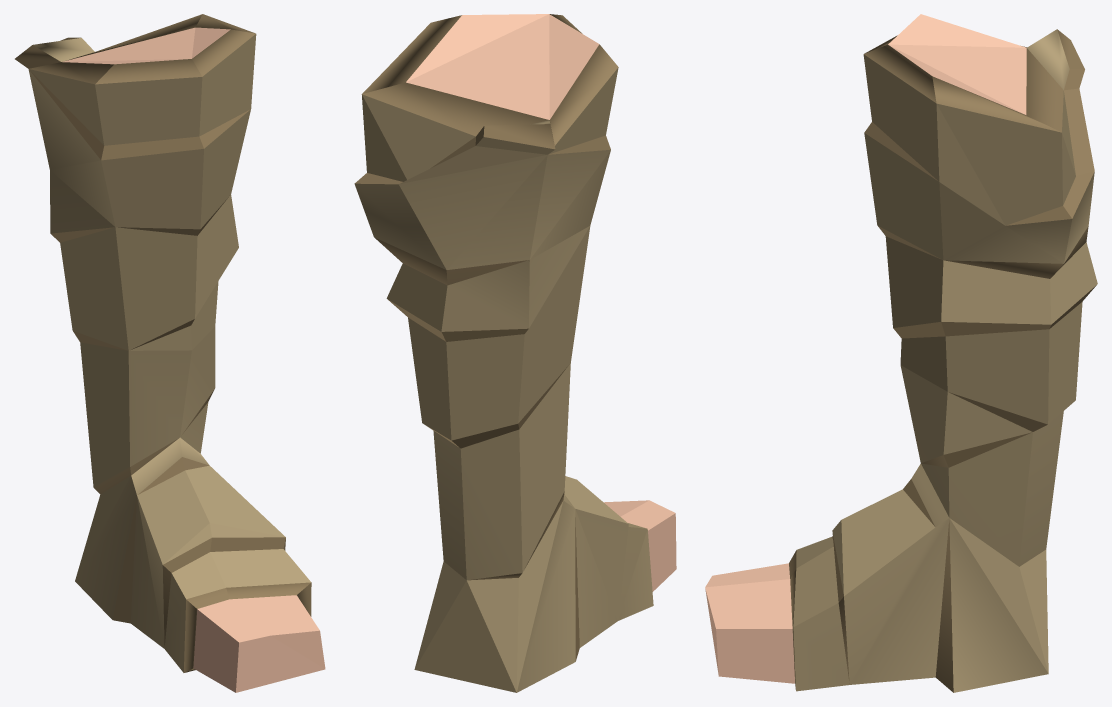
File: Chr_LegLeft_Female_03_Static.fbx
The picture shows the model from 3 angles, left to right: view 1: azimuth 30°, elevation 25°; view 2: azimuth 150°, elevation 25°; view 3: azimuth 270°, elevation 25°; orthographic projection. The views are drawn at different scales.
Visible parts, largest first — view 1: Chr_LegLeft_Female_03_Static; view 2: Chr_LegLeft_Female_03_Static; view 3: Chr_LegLeft_Female_03_Static.
Part boxes in pixels (x1,y1,x2,y2): Chr_LegLeft_Female_03_Static: [15, 14, 325, 692]; Chr_LegLeft_Female_03_Static: [354, 14, 676, 692]; Chr_LegLeft_Female_03_Static: [705, 14, 1097, 692].
Size of the model in its own units: 0.1384 by 0.4043 by 0.2371.
